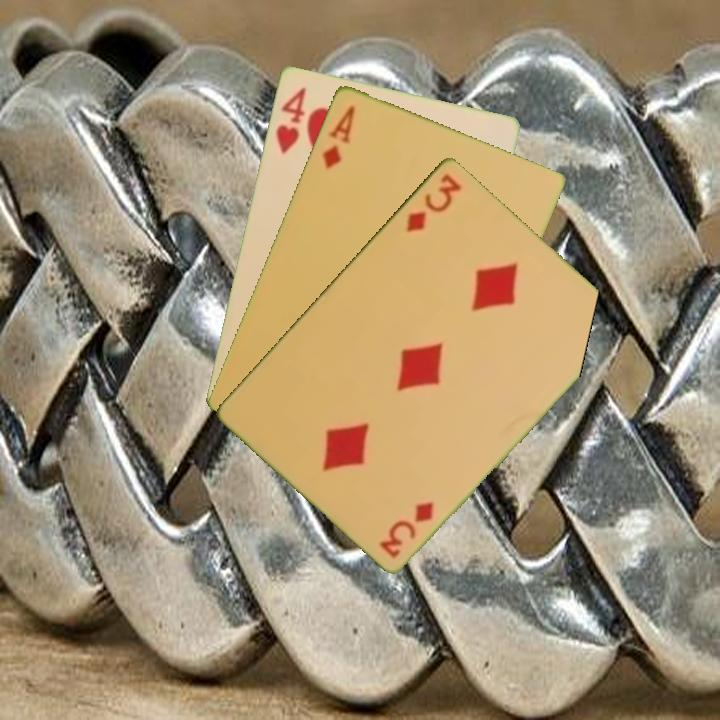3d: (402, 169, 464, 235), (376, 497, 437, 561)
4h: (272, 82, 308, 157)
Ad: (317, 101, 358, 171)
